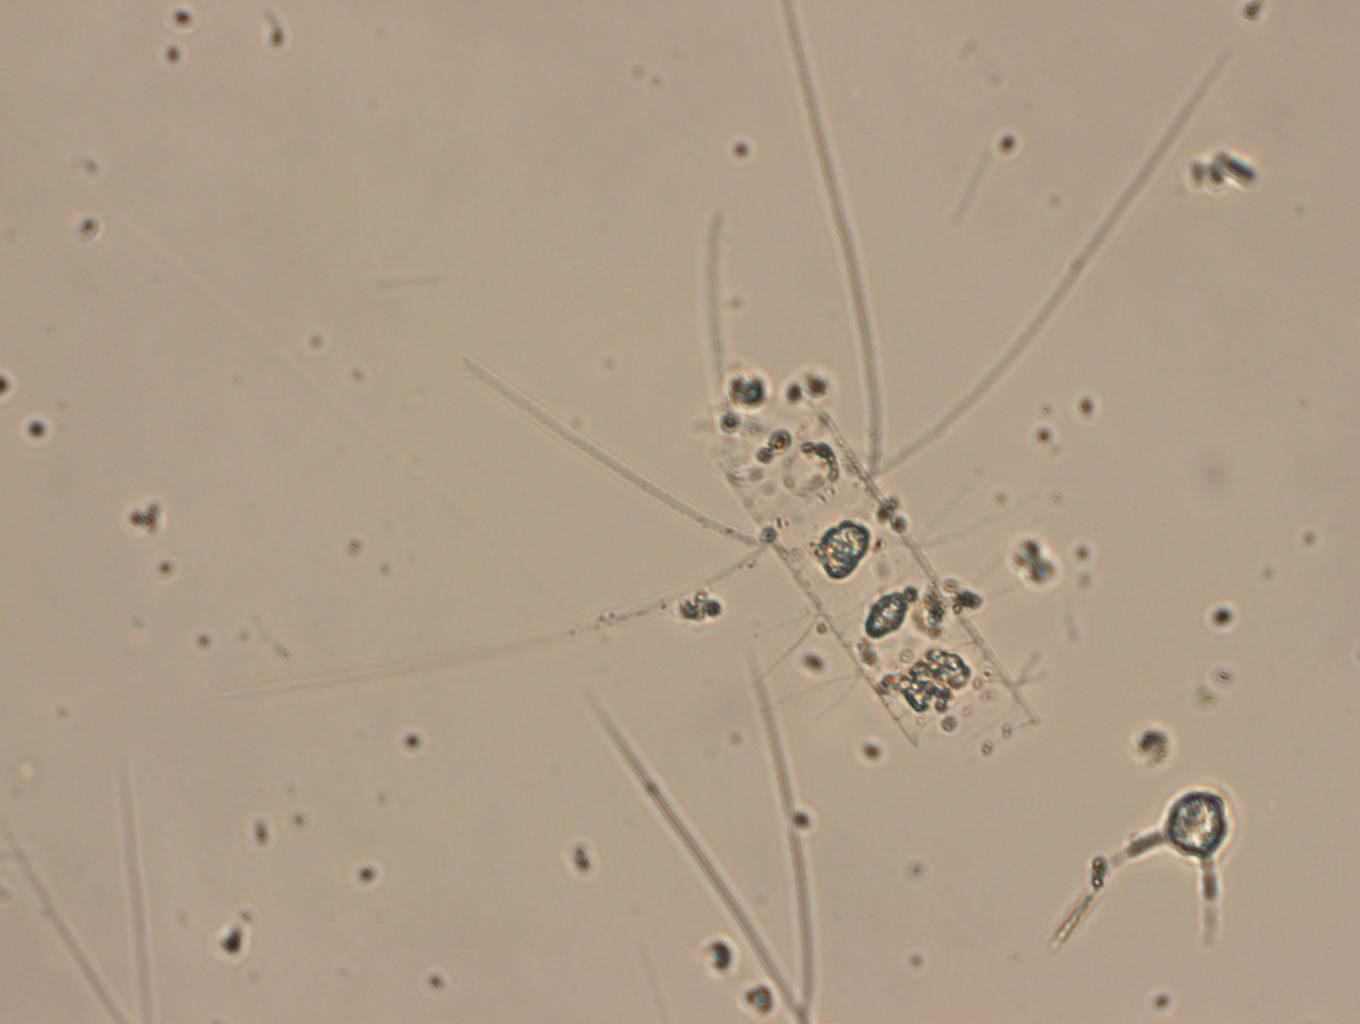chaetoceros: (206, 10, 1240, 757)
